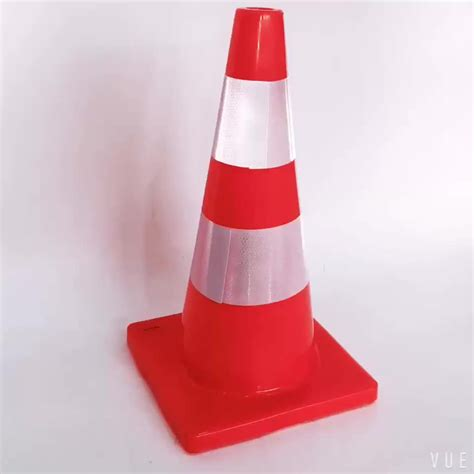cone: (125, 7, 381, 456)
